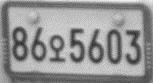0: (105, 28, 124, 64)
3: (124, 28, 141, 64)
5: (69, 27, 84, 62)
6: (87, 27, 104, 64), (30, 26, 47, 61)
8: (11, 25, 29, 62)
오: (48, 33, 66, 63)
